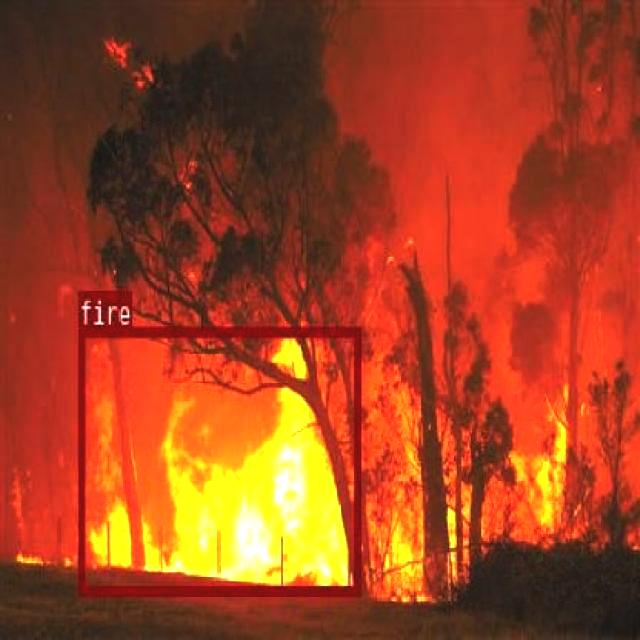fire: (78, 326, 360, 594)
